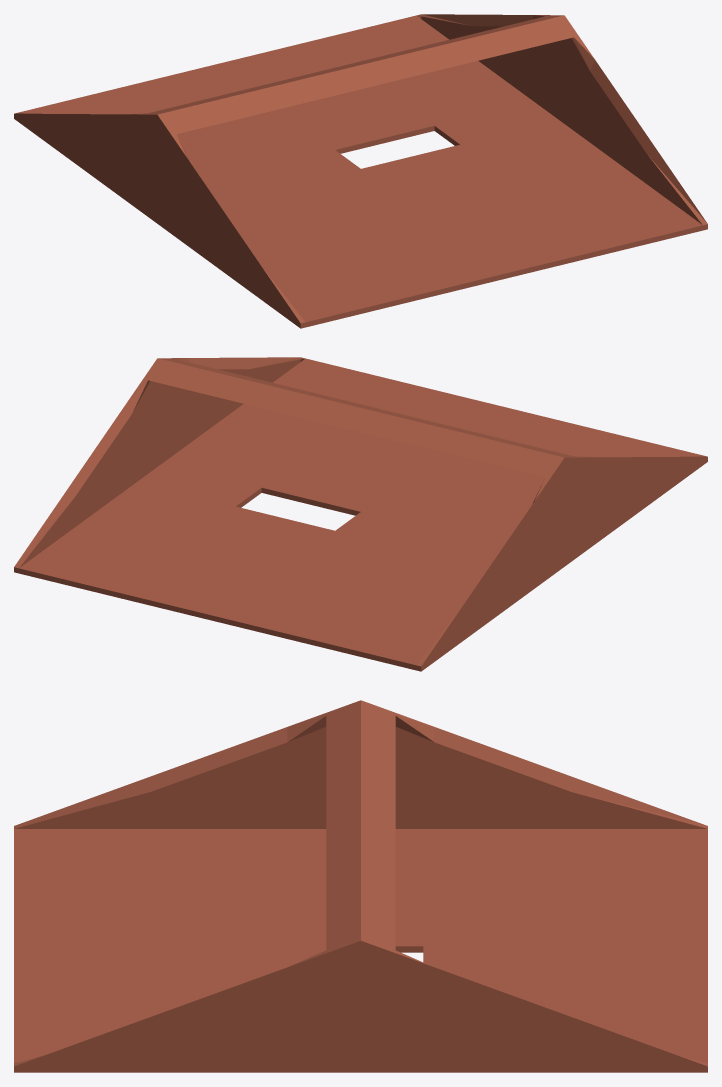
The model's file is attic.fbx.
3 views of the same model, one above another, from view 1: azimuth 30°, elevation 25°; view 2: azimuth 150°, elevation 25°; view 3: azimuth 270°, elevation 25° (orthographic). The views are drawn at different scales.
Parts seen in each view (by area): view 1: Cube; view 2: Cube; view 3: Cube.
Boxes of the visible parts, x1,y1,x2,y2 form: Cube: (14, 14, 707, 328); Cube: (14, 357, 707, 671); Cube: (14, 700, 707, 1072).
Size of the model in its own units: 4100 by 1050 by 5000.
